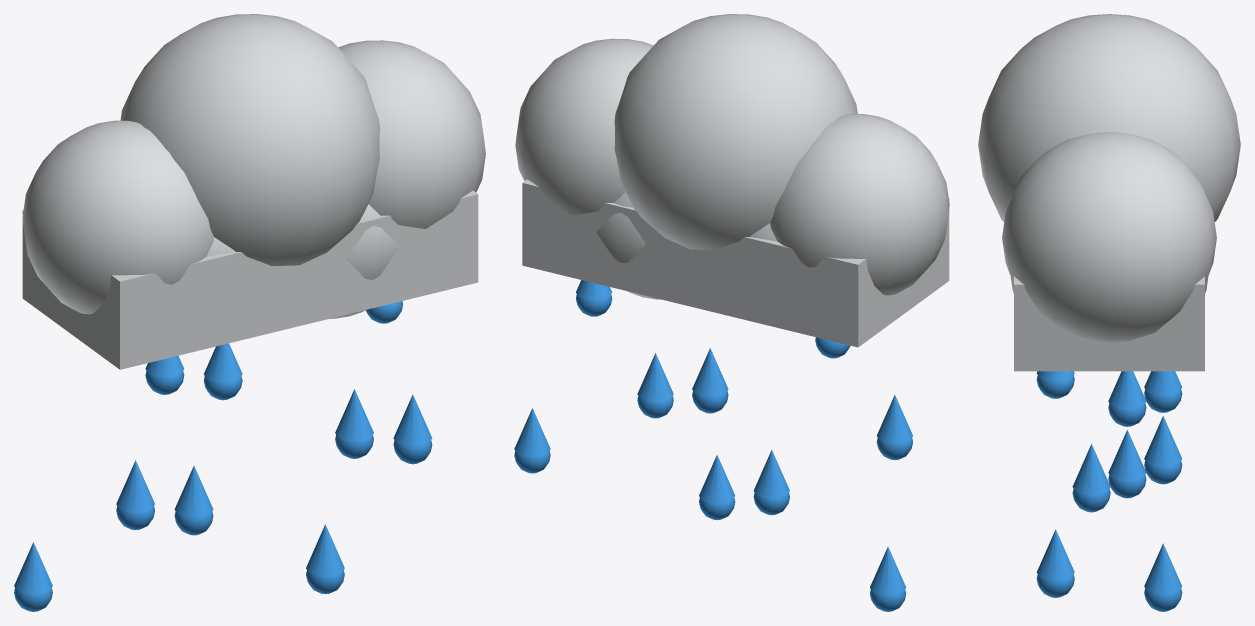
The model's file is rain.glb.
The picture shows the model from 3 angles, left to right: view 1: azimuth 30°, elevation 25°; view 2: azimuth 150°, elevation 25°; view 3: azimuth 270°, elevation 25°; orthographic projection. The views are drawn at different scales.
Visible parts, largest first — view 1: rain; view 2: rain; view 3: rain.
Part boxes in pixels (left/top/right/bottom): rain: left=14, top=14, right=485, bottom=611; rain: left=514, top=14, right=949, bottom=611; rain: left=978, top=14, right=1240, bottom=611.
Size of the model in its own units: 2.07 by 2.53 by 1.1.
